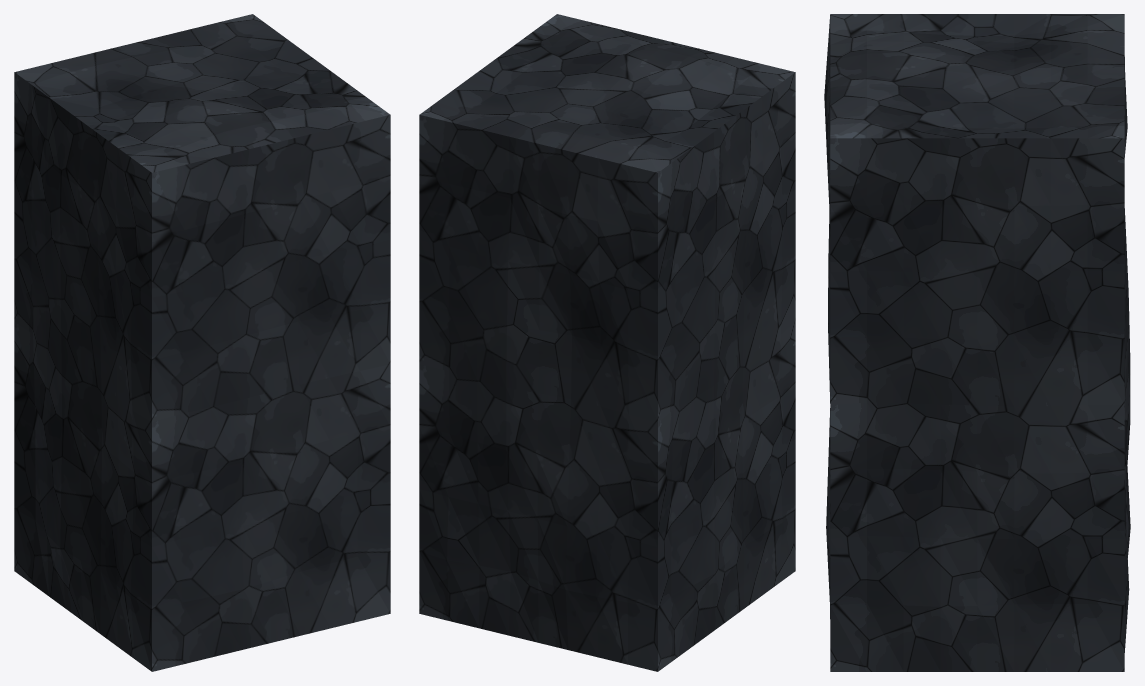
The model's file is dungeon_wall_block_bedrock.obj.
The picture shows the model from 3 angles, left to right: view 1: azimuth 30°, elevation 25°; view 2: azimuth 150°, elevation 25°; view 3: azimuth 270°, elevation 25°; orthographic projection. The views are drawn at different scales.
Size of the model in its own units: 1.04 by 2.03 by 1.04.
1 material, 1 textured.
